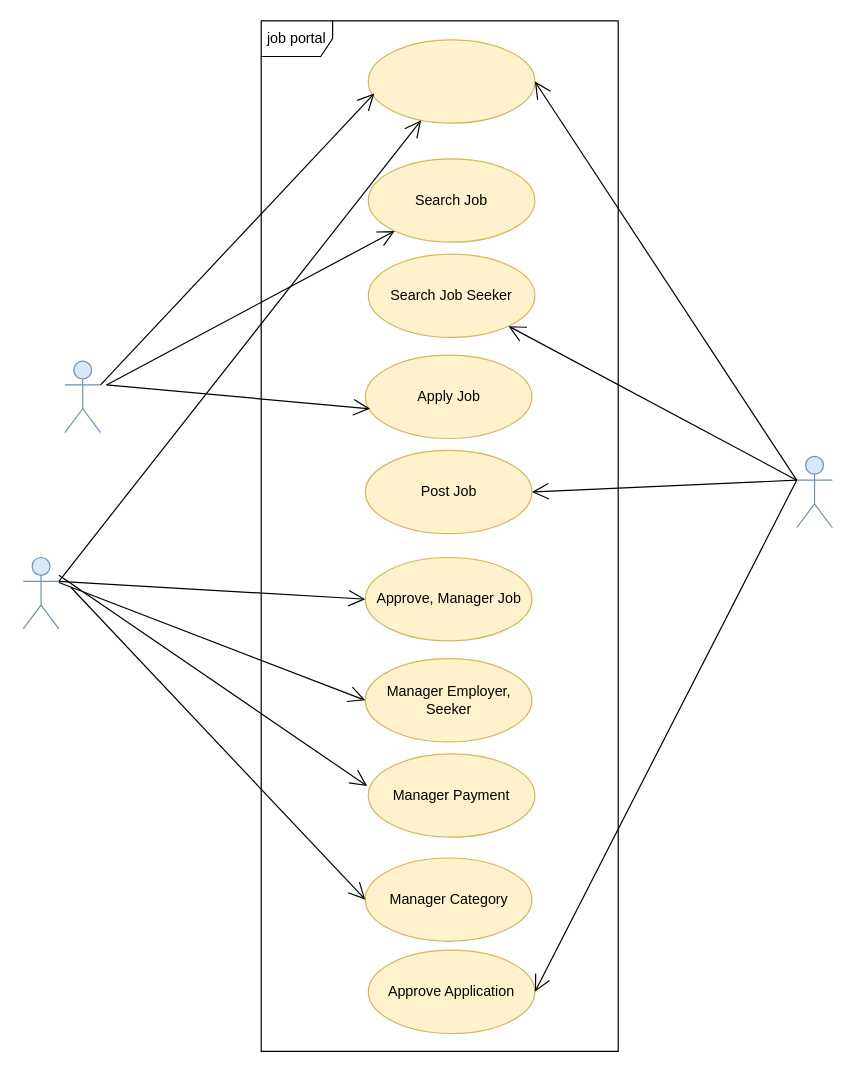
The diagram is 865 pixels wide and 1072 high, and some of its shapes have lost their labels. The shapes that lost their labels are listed below. From the top down, each one's centre as x and y in pixels, then its label:
At point 451,81: "Authentication".
At point 82,396: "Job Seeker".
At point 814,491: "Employer".
At point 40,592: "Admin".
